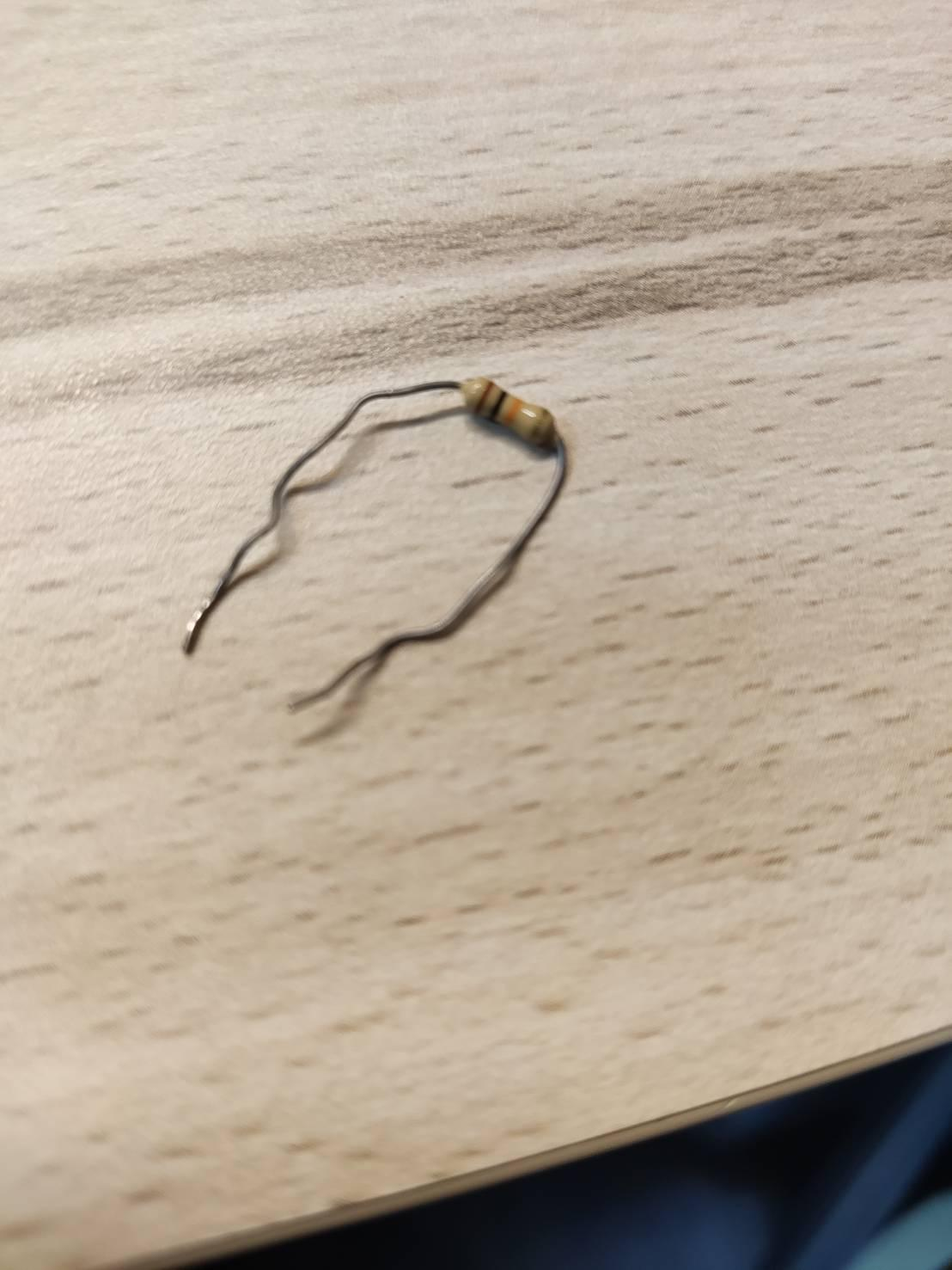resistor: (459, 363, 558, 454)
